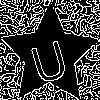U: (25, 30, 72, 86)
